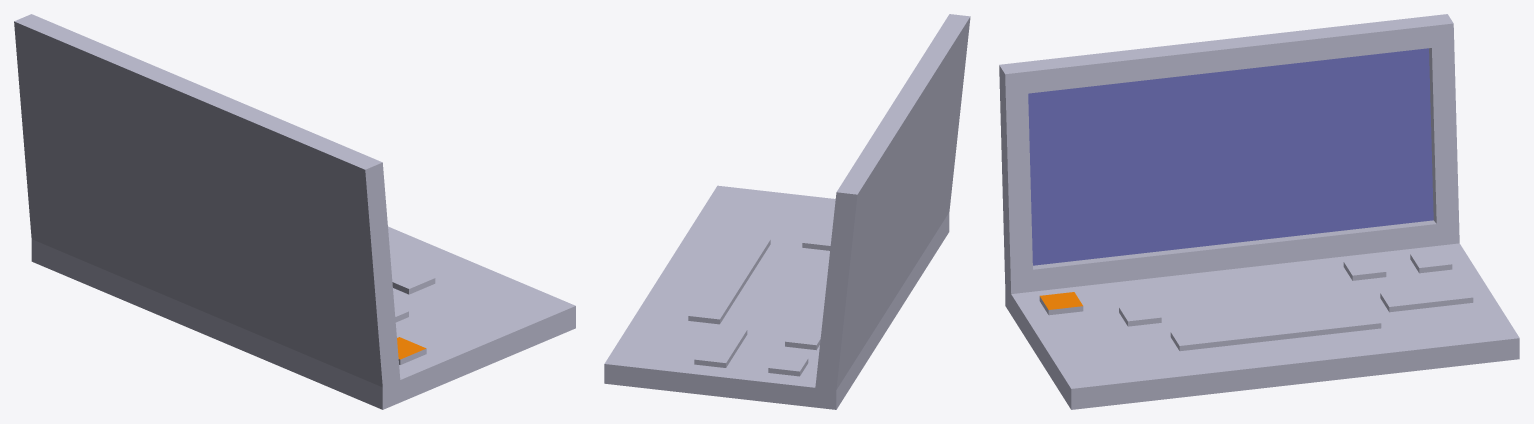
Rendered from laptop.glb.
The picture shows the model from 3 angles, left to right: view 1: azimuth 30°, elevation 25°; view 2: azimuth 150°, elevation 25°; view 3: azimuth 270°, elevation 25°; orthographic projection. The views are drawn at different scales.
Visible parts, largest first — view 1: compu; view 2: compu; view 3: compu.
Boxes of the visible parts, left/top/right/bottom form: compu: left=14, top=14, right=575, bottom=409; compu: left=604, top=14, right=970, bottom=409; compu: left=999, top=14, right=1519, bottom=409.
Bounding box in the file's own units: 54.06 × 35.46 × 72.3.
